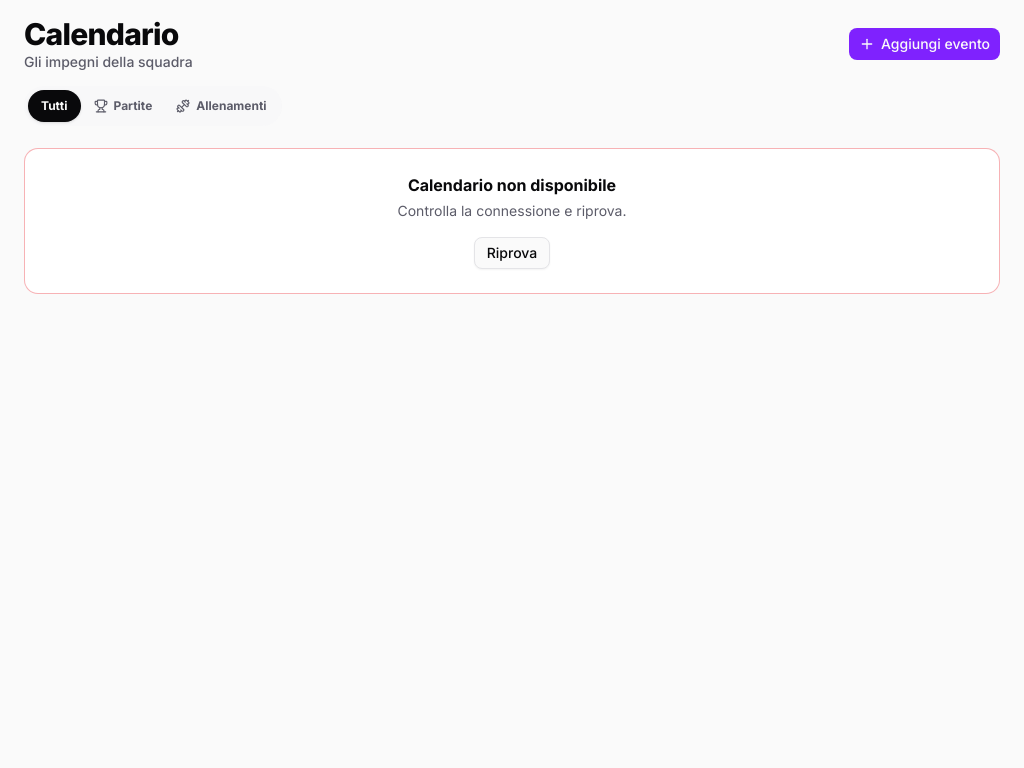
Test: calendar loading errors › shows a retryable error instead of an empty calendar
Check: the message shows "Calendario non disponibile", box [408, 175, 616, 195]
Check: the text "Nessun impegno in programma." is not shown
Click the button "Riprova".
click(512, 253)  # box [474, 237, 550, 269]
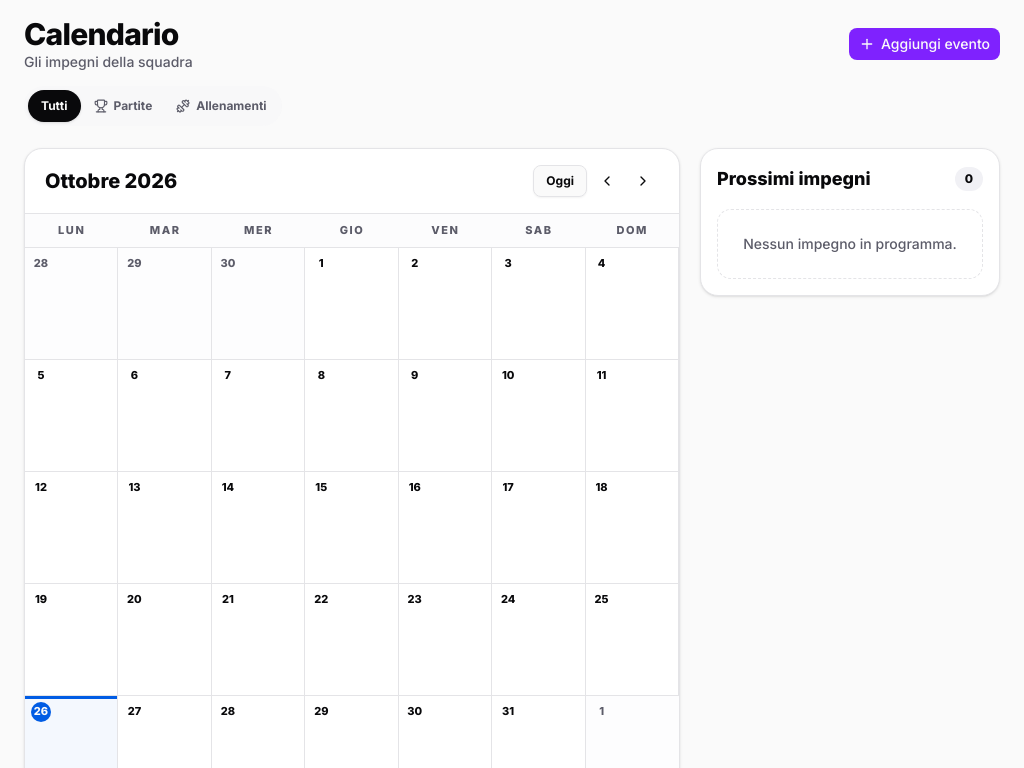
Check: the message "Calendario non disponibile Controlla la connessione e riprova. Riprova" is gone
